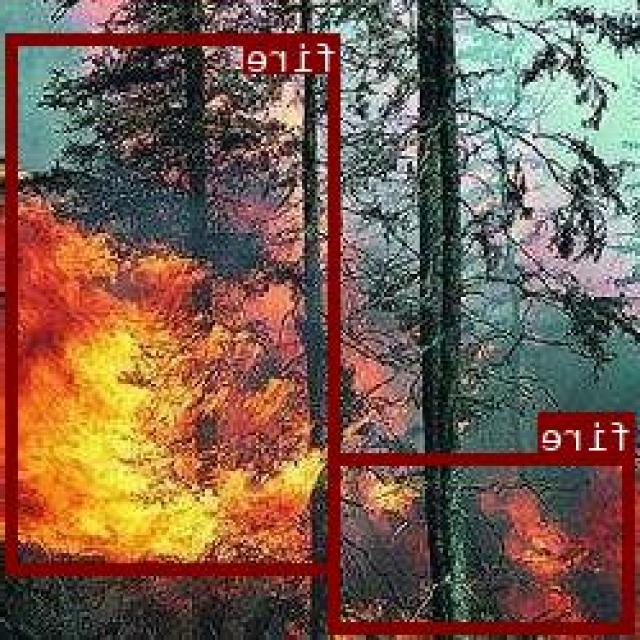fire: (9, 31, 343, 572), (331, 453, 636, 632)
